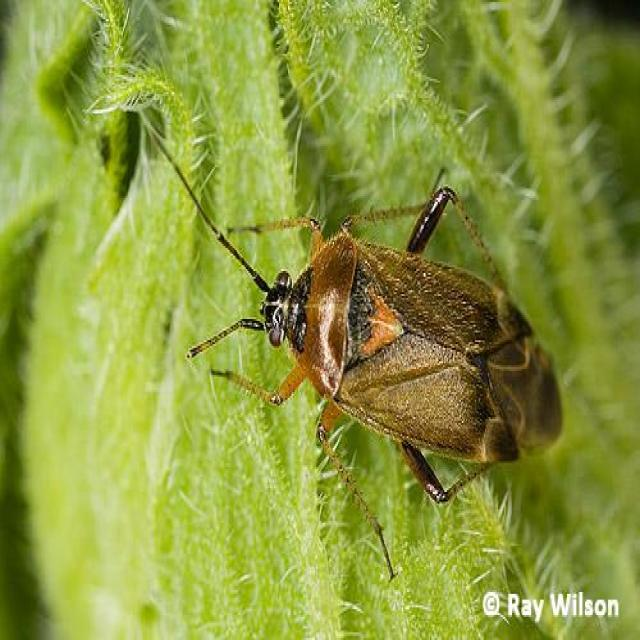Miridae-Adult-: (170, 134, 566, 507)
